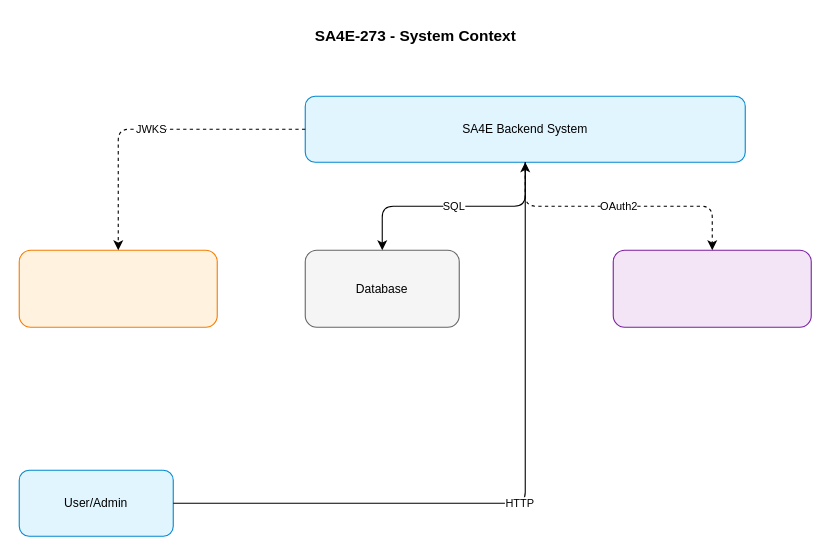
Image size: 831x556. Some labels were removed from this diagram. Here are the shapes that lost their labels. From the top down, the centre of each, then its label:
the point at 117,288: Entra ID
the point at 711,288: Browser/Extension
